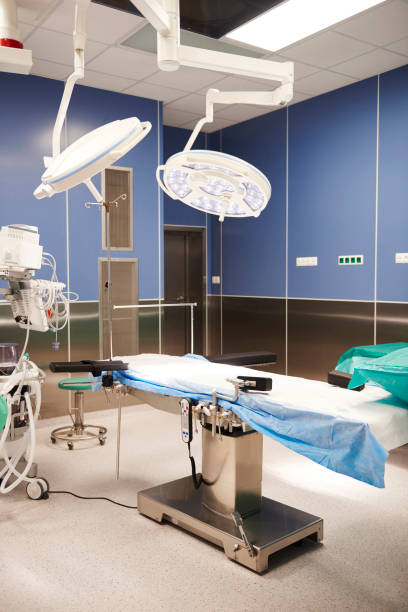breathing_tube: (1, 355, 46, 496)
chair: (50, 375, 116, 450)
door_handle: (173, 295, 186, 304)
iv_pole: (85, 194, 168, 347)
operating_bed: (50, 348, 407, 573)
surgical_light: (33, 117, 155, 198), (159, 148, 279, 222)
